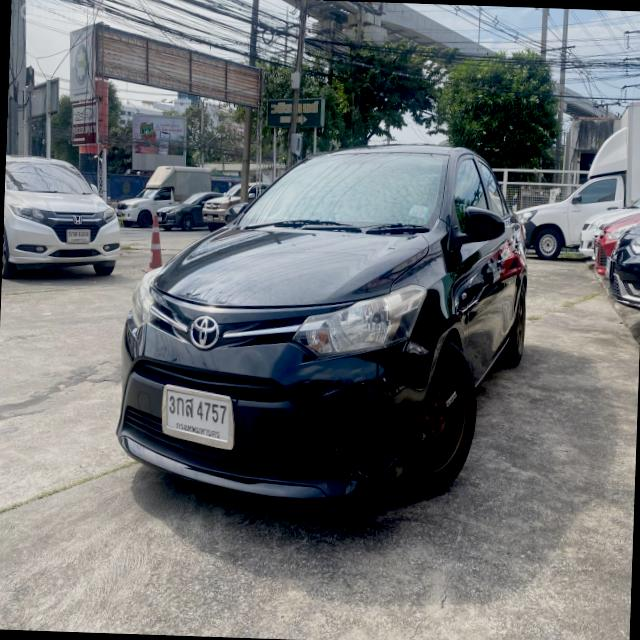license_plate: (160, 383, 238, 453), (66, 227, 92, 244)
